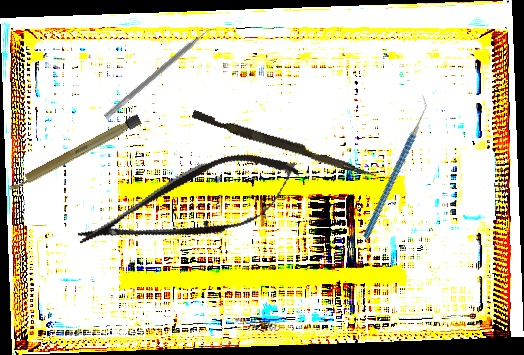Chopper: (321, 93, 468, 241)
Micro Scissor: (68, 136, 309, 275)
Pusher: (190, 110, 379, 179)
Scalpel Handle: (6, 113, 142, 194)
Spatula Surgical: (103, 21, 219, 125)
